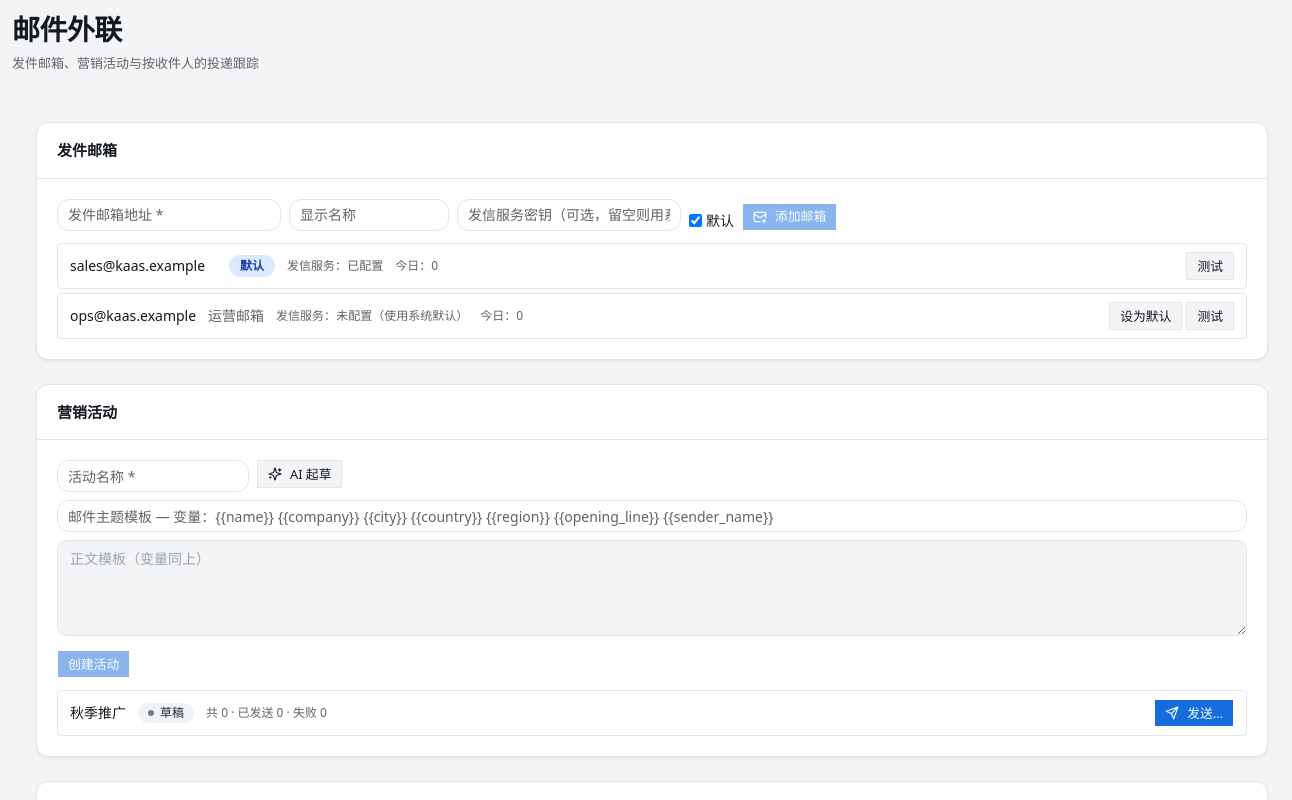
Test case: 邮件外联 · 设为默认发件人（P0-B2/O35-O40） › 设为默认失败 → 页内显示原因
The image size is (1292, 800).
Click the button "设为默认" at x=1146, y=316, box [1109, 302, 1182, 330]
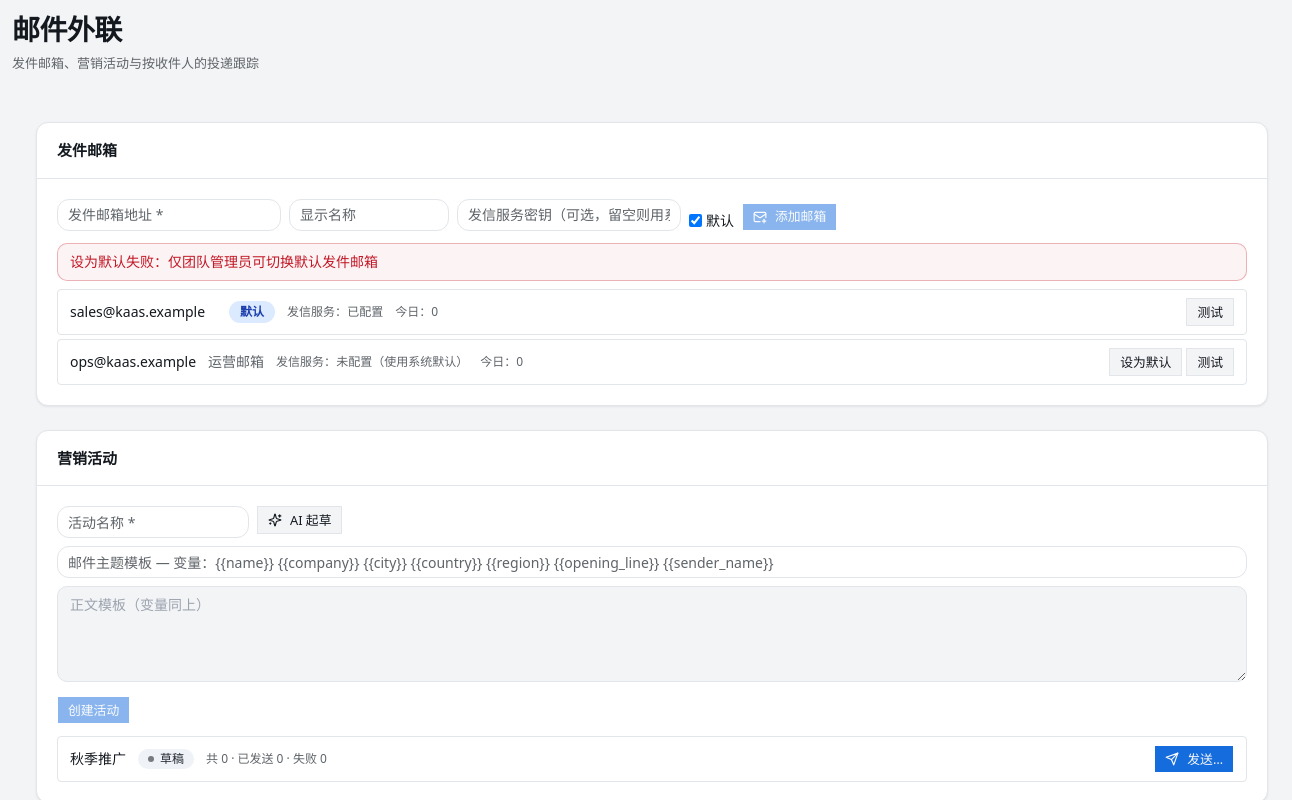
Expected: the message "设为默认失败：仅团队管理员可切换默认发件邮箱" is shown, [57, 243, 1247, 281]
